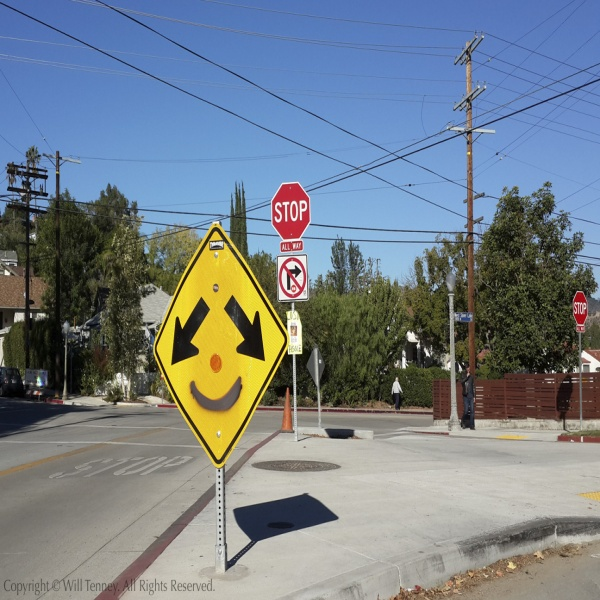stop: (265, 183, 312, 246)
